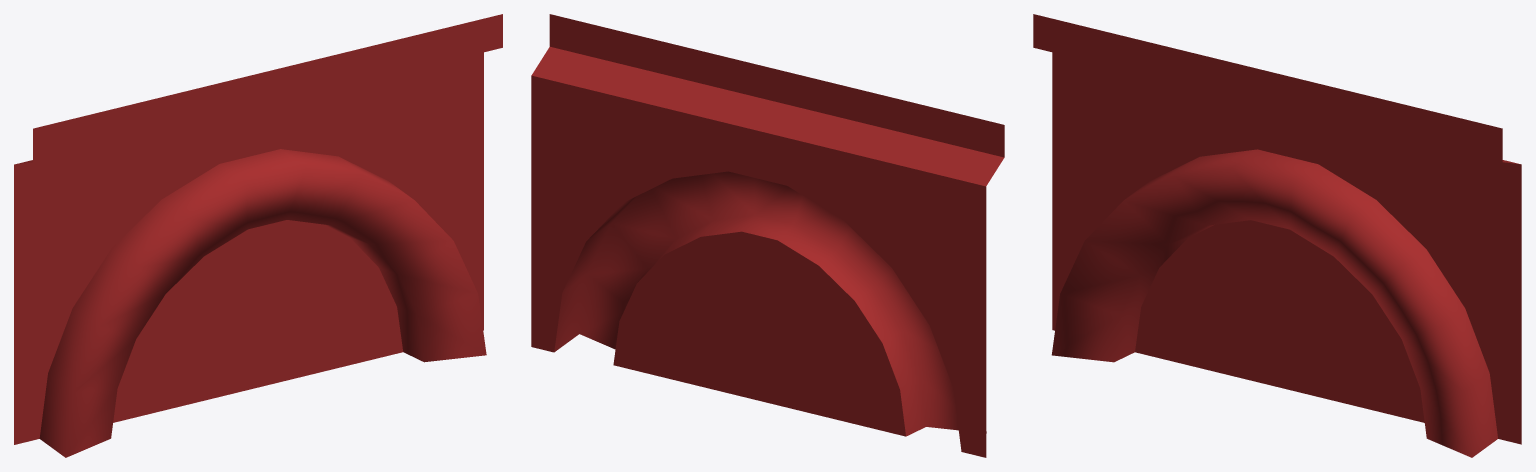
The model's file is ArchClosed_Col.FBX.
The picture shows the model from 3 angles, left to right: view 1: azimuth 30°, elevation 25°; view 2: azimuth 150°, elevation 25°; view 3: azimuth 330°, elevation 25°; orthographic projection. The views are drawn at different scales.
Parts seen in each view (by area): view 1: ArchClosed_Col; view 2: ArchClosed_Col; view 3: ArchClosed_Col.
Boxes of the visible parts, x1=… form: ArchClosed_Col: x1=14, y1=14, x2=502, y2=457; ArchClosed_Col: x1=531, y1=14, x2=1004, y2=457; ArchClosed_Col: x1=1033, y1=14, x2=1521, y2=457.
Bounding box in the file's own units: 6.06 × 4.07 × 0.5832.
